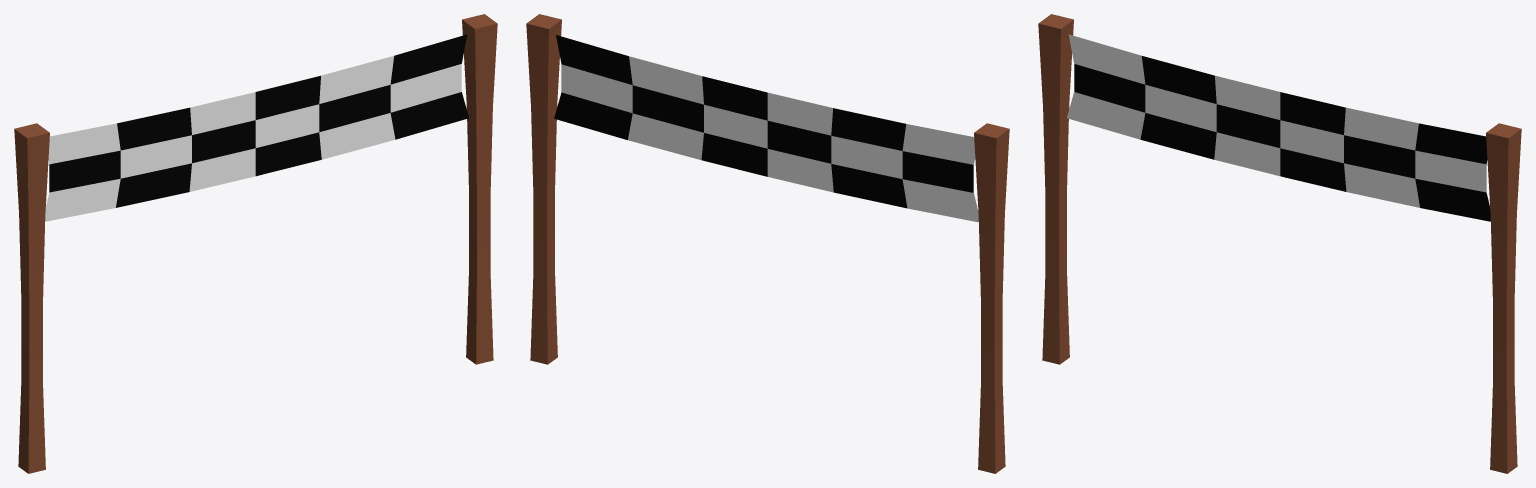
The model's file is Goal.FBX.
3 renders of one model, left to right at view 1: azimuth 30°, elevation 25°; view 2: azimuth 150°, elevation 25°; view 3: azimuth 330°, elevation 25°, orthographic.
Parts seen in each view (by area): view 1: Box004; view 2: Box004; view 3: Box004.
Boxes of the visible parts, x1,y1,x2,y2 form: Box004: [14, 14, 497, 473]; Box004: [526, 14, 1009, 473]; Box004: [1038, 14, 1521, 473].
Bounding box in the file's own units: 1903 × 1305 × 91.79.
1 material, 1 textured.
